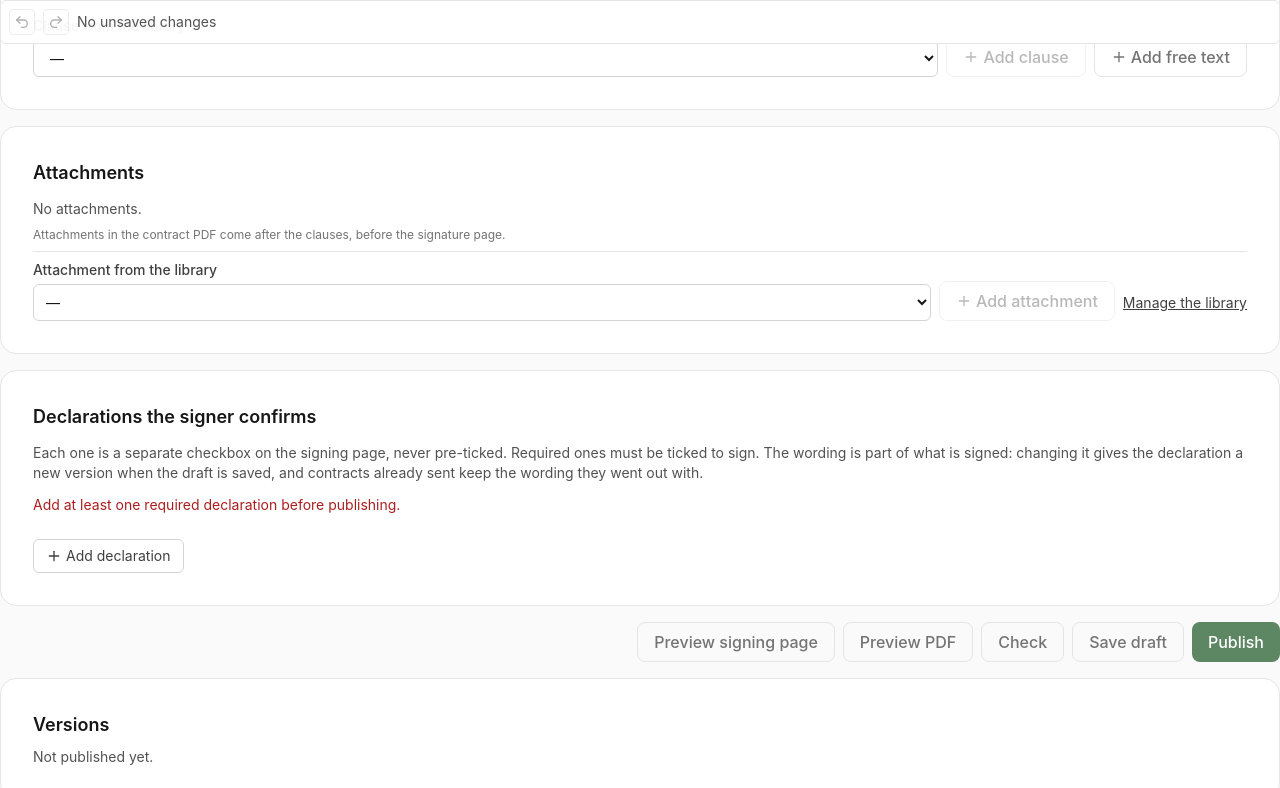
Test case: publishing runs the check first and stops on an error, located and in words
(page scrolled)
Step 1. Click the button "Publish" → (1236, 642), box [1192,622,1279,662]
(page scrolled)
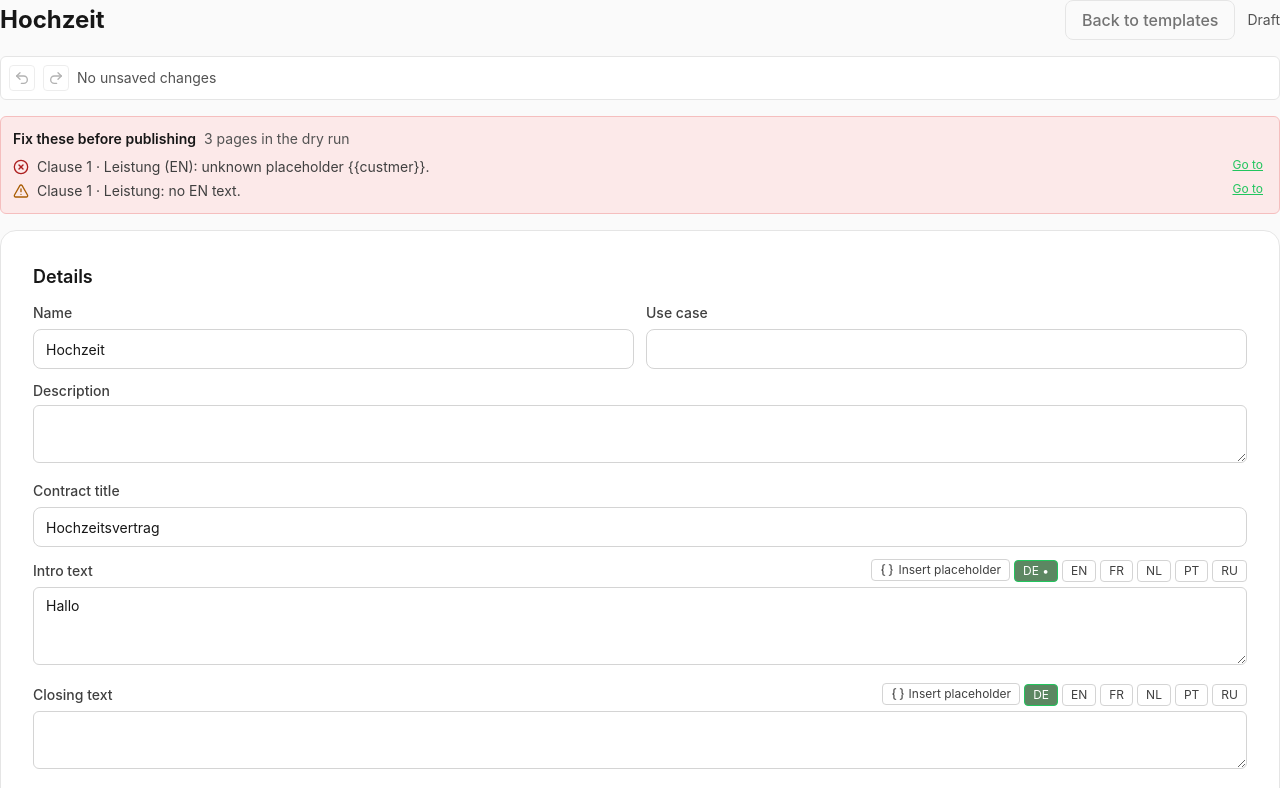
Check: the text "Clause 1 · Leistung (EN): unknown placeholder {{custmer}}." is shown, box [37,158,430,175]
Check: the text "Clause 1 · Leistung: no EN text." is shown, box [37,182,241,199]
Check: the heading "Fix these before publishing" is shown, box [13,129,196,149]
